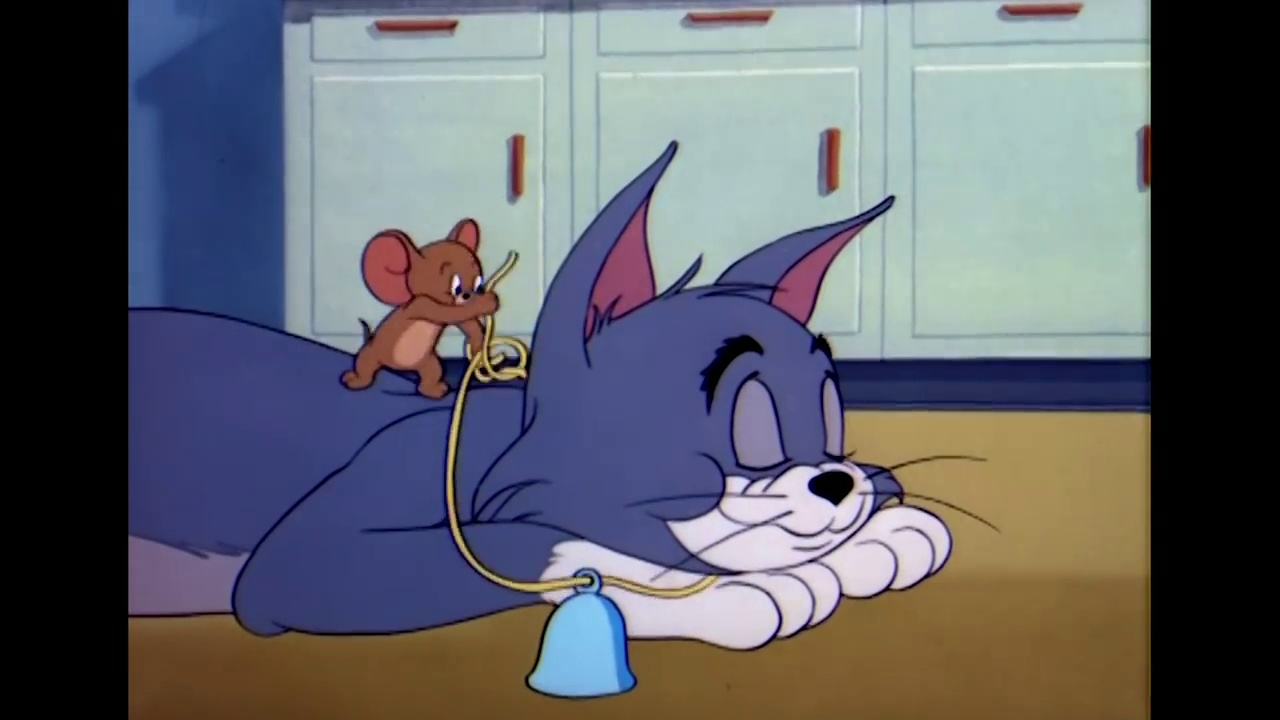tom: (518, 134, 905, 580)
